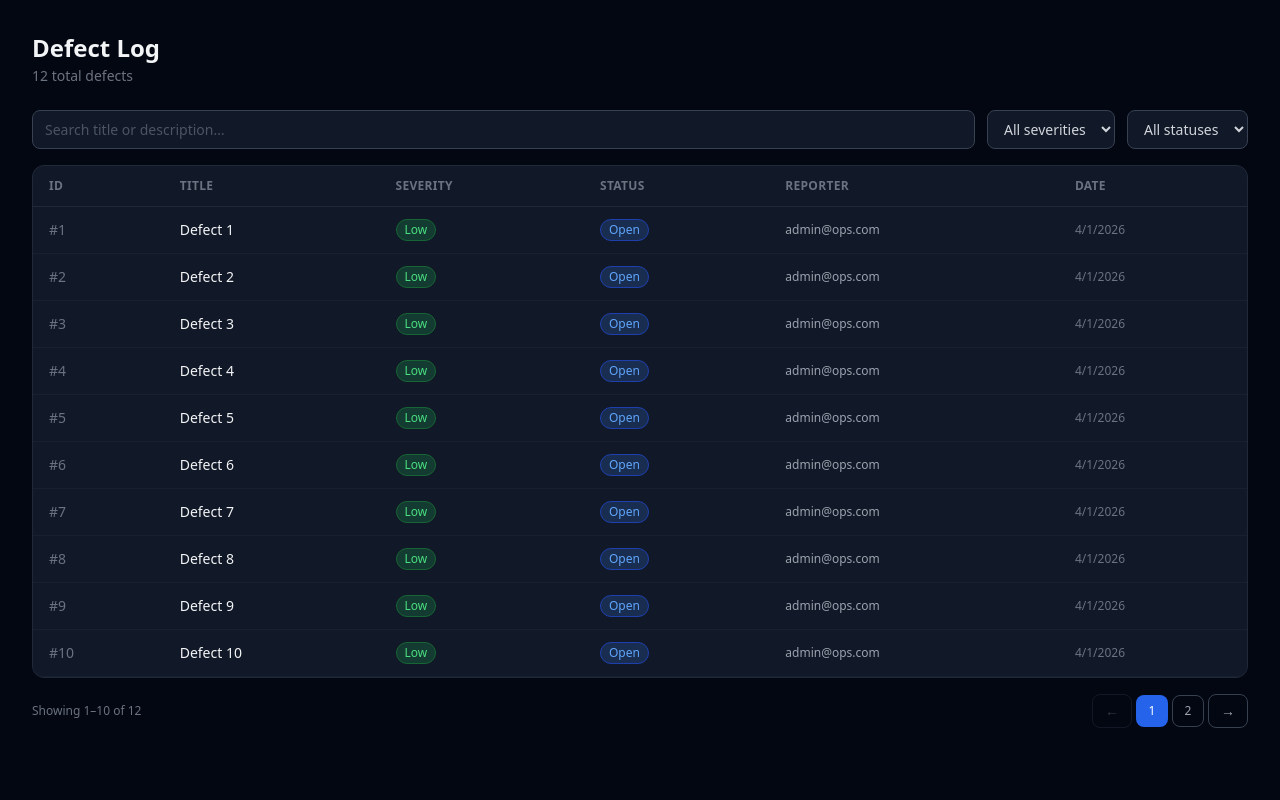
Test: DefectLog — pagination › advances to page 2 and shows the remaining rows
Expected: the text "Defect 1" is shown, [164,206,380,254]
Step 1. Click the button "→" → (1228, 711), box [1208,694,1248,728]
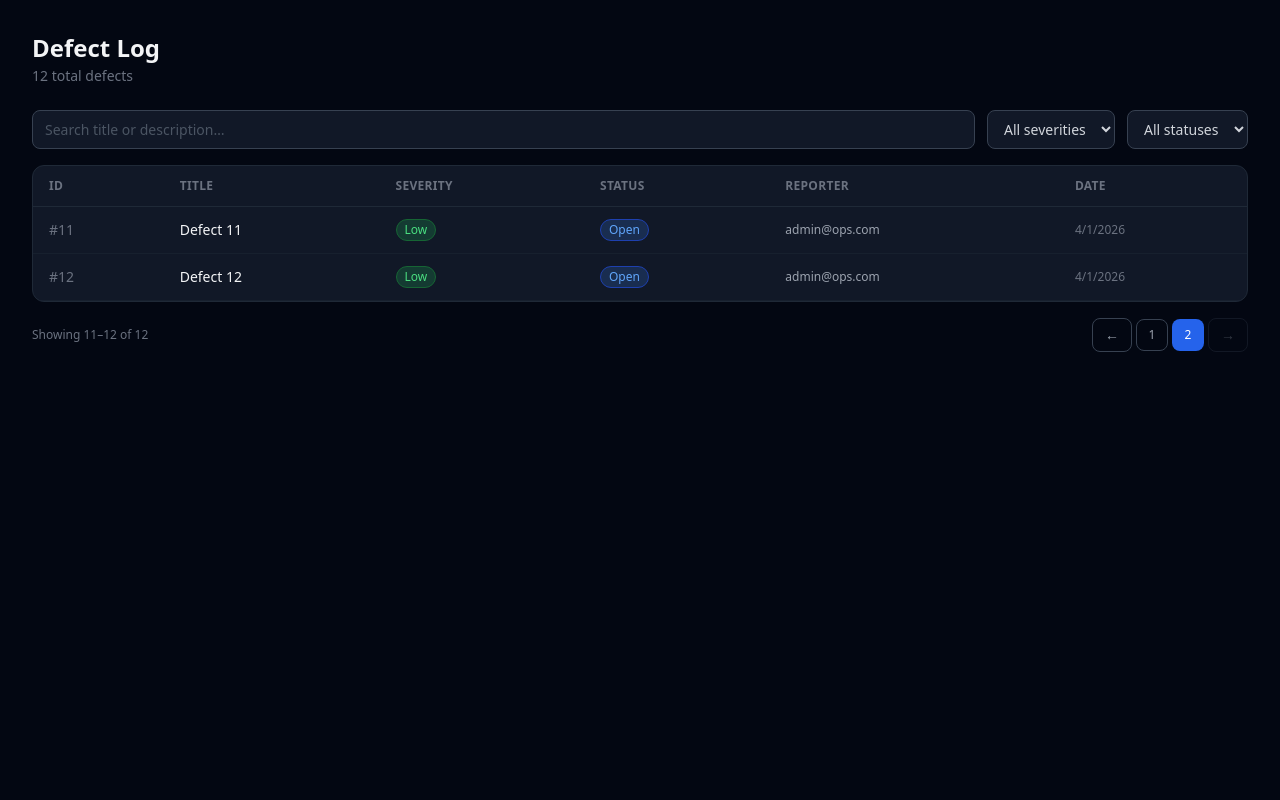
Expected: the text "Defect 11" is shown, [164,206,380,254]
Expected: the text "Defect 12" is shown, [164,254,380,300]
Expected: the text "Showing 11–12 of 12" is shown, [32,327,148,343]
